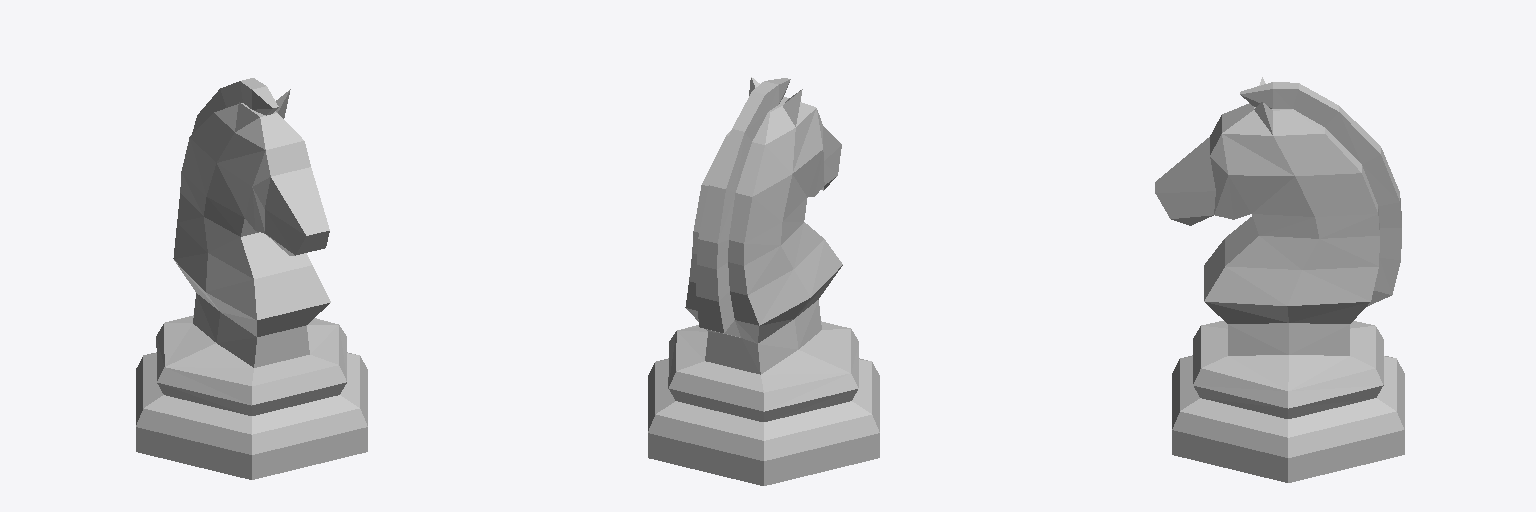
The model's file is caballoA.obj.
3 renders of one model, left to right at view 1: azimuth 30°, elevation 25°; view 2: azimuth 150°, elevation 25°; view 3: azimuth 270°, elevation 25°, orthographic.
Visible parts, largest first — view 1: polySurface5 polySurface4 polySurface2 ImageToStl_com_chessset1:; view 2: polySurface5 polySurface4 polySurface2 ImageToStl_com_chessset1:; view 3: polySurface5 polySurface4 polySurface2 ImageToStl_com_chessset1:.
Part boxes in pixels (x1,y1,x2,y2): polySurface5 polySurface4 polySurface2 ImageToStl_com_chessset1:: (136, 78, 367, 479); polySurface5 polySurface4 polySurface2 ImageToStl_com_chessset1:: (648, 77, 879, 485); polySurface5 polySurface4 polySurface2 ImageToStl_com_chessset1:: (1155, 77, 1404, 482).
Size of the model in its own units: 0.8957 by 1.26 by 0.8316.